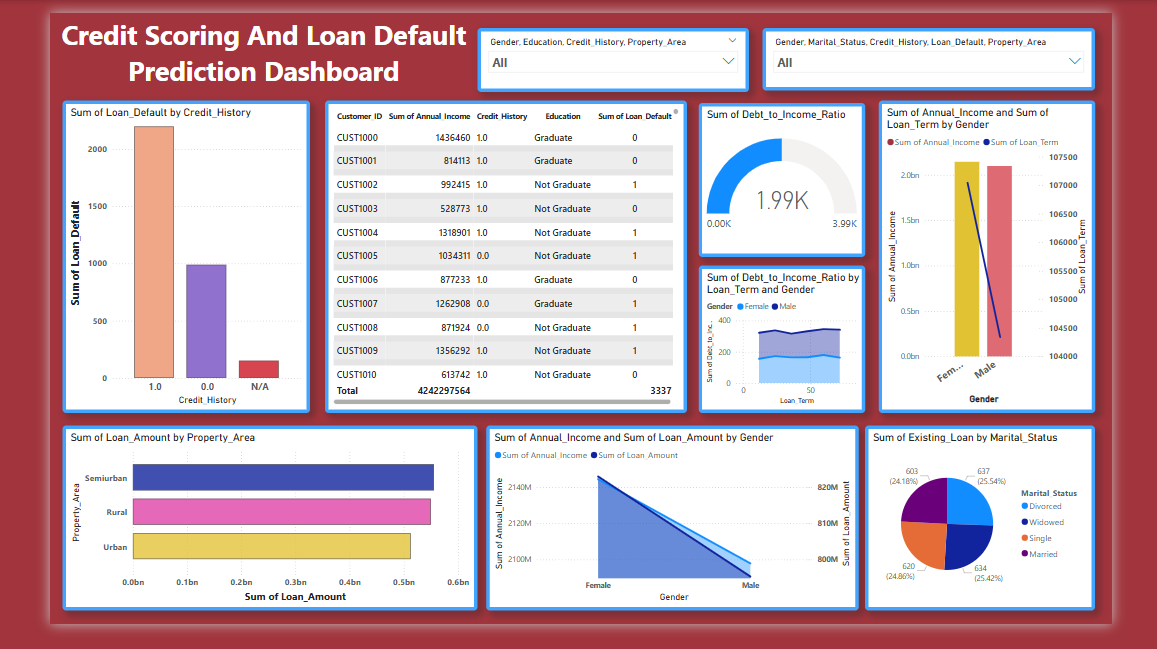

This screenshot's page, from the dashboard's own definition file:
{"tool":"powerbi","page":{"name":"Page 1","canvas":[1700,979],"ordinal":0},"visuals":[{"type":"columnChart","fields":{"Category":["Cleaned-Credit-Data.Credit_History"],"Y":["Sum(Cleaned-Credit-Data.Loan_Default)"]},"box":[20,140,396,500],"z":0},{"type":"barChart","fields":{"Category":["Cleaned-Credit-Data.Property_Area"],"Y":["Sum(Cleaned-Credit-Data.Loan_Amount)"]},"box":[20,660,664,296],"z":1000},{"type":"slicer","fields":{"Values":["Cleaned-Credit-Data.Gender","Cleaned-Credit-Data.Education","Cleaned-Credit-Data.Credit_History","Cleaned-Credit-Data.Property_Area"]},"box":[684,24,434,102],"z":2000},{"type":"tableEx","fields":{"Values":["Cleaned-Credit-Data.Customer_ID","Sum(Cleaned-Credit-Data.Annual_Income)","Cleaned-Credit-Data.Credit_History","Cleaned-Credit-Data.Education","Sum(Cleaned-Credit-Data.Loan_Default)"]},"box":[439,139,579,500],"z":3000},{"type":"slicer","fields":{"Values":["Cleaned-Credit-Data.Gender","Cleaned-Credit-Data.Marital_Status","Cleaned-Credit-Data.Credit_History","Cleaned-Credit-Data.Loan_Default","Cleaned-Credit-Data.Property_Area"]},"box":[1140,24,532,100],"z":4000},{"type":"textbox","box":[0,0,684,124],"z":5000},{"type":"lineChart","fields":{"Category":["Cleaned-Credit-Data.Gender"],"Y":["Sum(Cleaned-Credit-Data.Annual_Income)"],"Y2":["Sum(Cleaned-Credit-Data.Loan_Amount)"]},"box":[698,660,596,296],"z":6000},{"type":"lineStackedColumnComboChart","fields":{"Category":["Cleaned-Credit-Data.Gender"],"Y":["Sum(Cleaned-Credit-Data.Annual_Income)"],"Y2":["Sum(Cleaned-Credit-Data.Loan_Term)"]},"box":[1326,140,346,500],"z":7000},{"type":"stackedAreaChart","fields":{"Category":["Cleaned-Credit-Data.Loan_Term"],"Y":["Sum(Cleaned-Credit-Data.Debt_to_Income_Ratio)"],"Series":["Cleaned-Credit-Data.Gender"]},"box":[1038,404,266,236],"z":8000},{"type":"pieChart","fields":{"Category":["Cleaned-Credit-Data.Marital_Status"],"Y":["Sum(Cleaned-Credit-Data.Existing_Loan)"]},"box":[1304,660,368,296],"z":9000},{"type":"gauge","fields":{"Y":["Sum(Cleaned-Credit-Data.Debt_to_Income_Ratio)"]},"box":[1038,144,266,246],"z":10000}]}

Visuals, with their boxes in screenshot pixels (x1, y1, x2, y2), scaled from the page's 1700x979 canvas onto the 1157x649 screenshot:
columnChart - Cleaned-Credit-Data.Credit_History x Sum(Cleaned-Credit-Data.Loan_Default): bbox(14, 93, 283, 424)
barChart - Cleaned-Credit-Data.Property_Area x Sum(Cleaned-Credit-Data.Loan_Amount): bbox(14, 438, 466, 634)
slicer - Cleaned-Credit-Data.Gender x Cleaned-Credit-Data.Education: bbox(466, 16, 761, 84)
tableEx - Cleaned-Credit-Data.Customer_ID x Sum(Cleaned-Credit-Data.Annual_Income): bbox(299, 92, 693, 424)
slicer - Cleaned-Credit-Data.Gender x Cleaned-Credit-Data.Marital_Status: bbox(776, 16, 1138, 82)
textbox: bbox(0, 0, 466, 82)
lineChart - Cleaned-Credit-Data.Gender x Sum(Cleaned-Credit-Data.Annual_Income): bbox(475, 438, 881, 634)
lineStackedColumnComboChart - Cleaned-Credit-Data.Gender x Sum(Cleaned-Credit-Data.Annual_Income): bbox(902, 93, 1138, 424)
stackedAreaChart - Cleaned-Credit-Data.Loan_Term x Sum(Cleaned-Credit-Data.Debt_to_Income_Ratio): bbox(706, 268, 887, 424)
pieChart - Cleaned-Credit-Data.Marital_Status x Sum(Cleaned-Credit-Data.Existing_Loan): bbox(887, 438, 1138, 634)
gauge - Sum(Cleaned-Credit-Data.Debt_to_Income_Ratio): bbox(706, 95, 887, 259)
